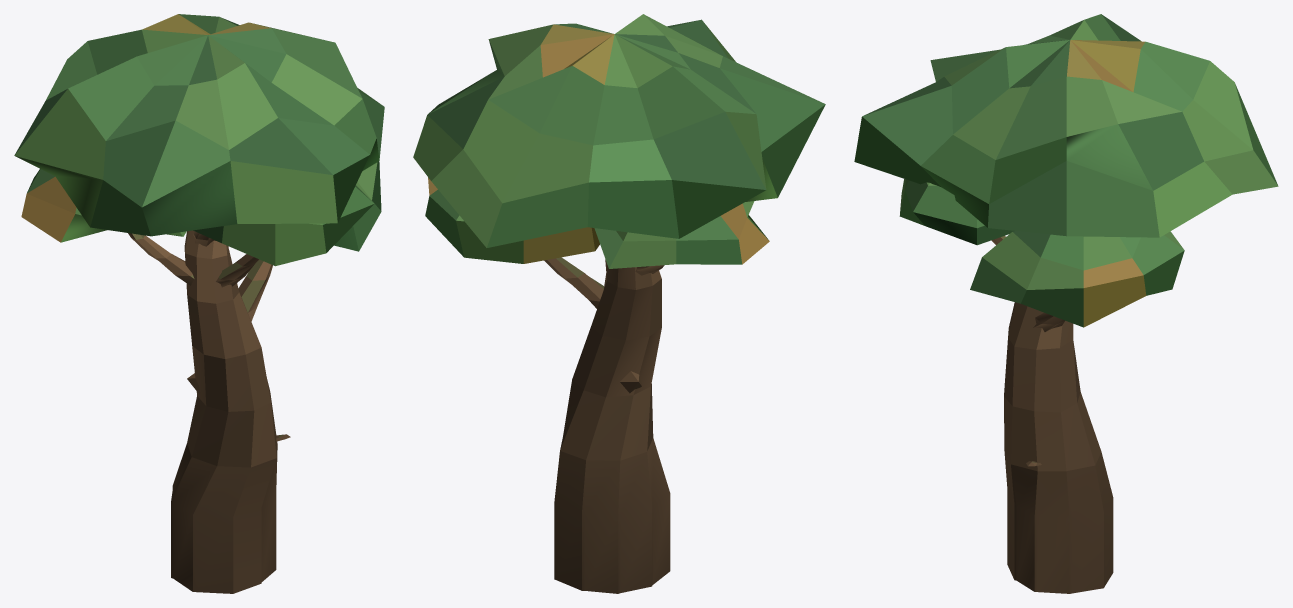
Rendered from Elder_Tree.glb.
3 views of the same model, side by side, from view 1: azimuth 30°, elevation 25°; view 2: azimuth 150°, elevation 25°; view 3: azimuth 270°, elevation 25° (orthographic). The views are drawn at different scales.
Parts seen in each view (by area): view 1: Elder_Tree; view 2: Elder_Tree; view 3: Elder_Tree.
Boxes of the visible parts, <box> form: Elder_Tree: <box>14,14,384,593</box>; Elder_Tree: <box>413,14,825,593</box>; Elder_Tree: <box>854,14,1278,593</box>.
Size of the model in its own units: 9.53 by 13.92 by 10.14.
